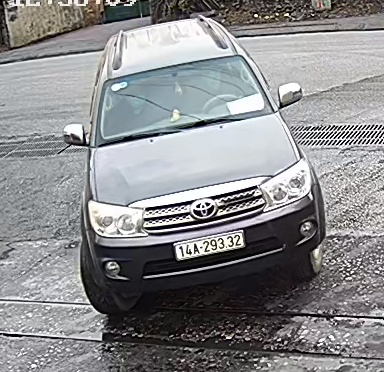vehicle plate: (169, 230, 248, 259)
